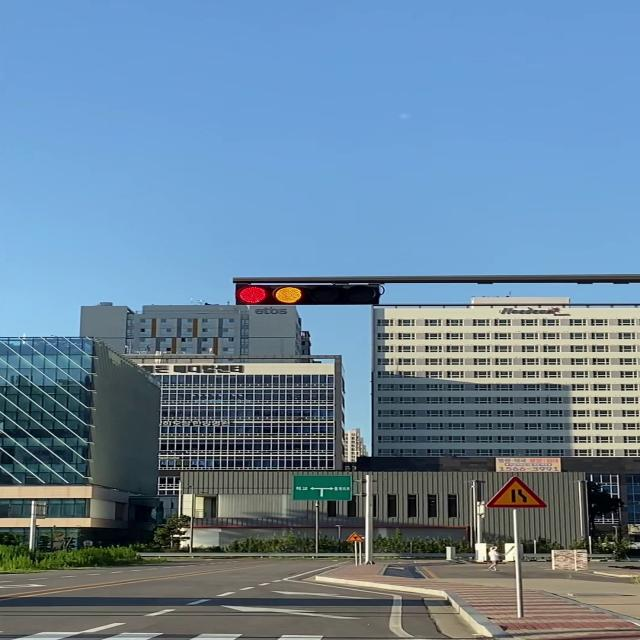yellow_light: (235, 284, 380, 305)
